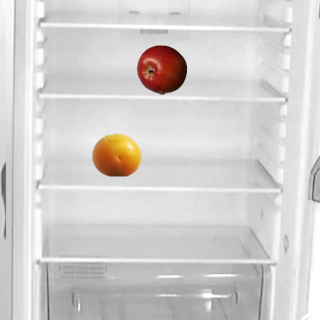Apple Braeburn: (136, 44, 186, 94)
Cherry Wax Yellow: (91, 129, 141, 179)
